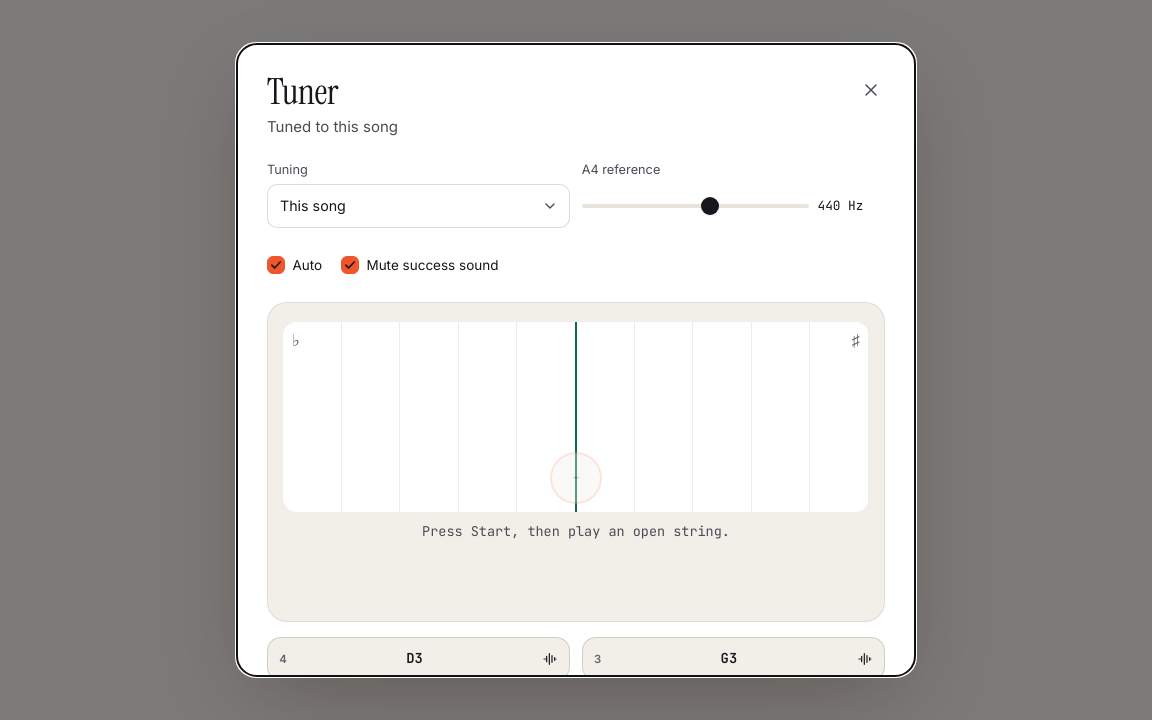
TunerSheet › locks to a tapped string when Auto is off
The image size is (1152, 720).
Click the checkbox with test id "tuner-auto" at (276,265), box [267, 256, 285, 274]
(page scrolled)
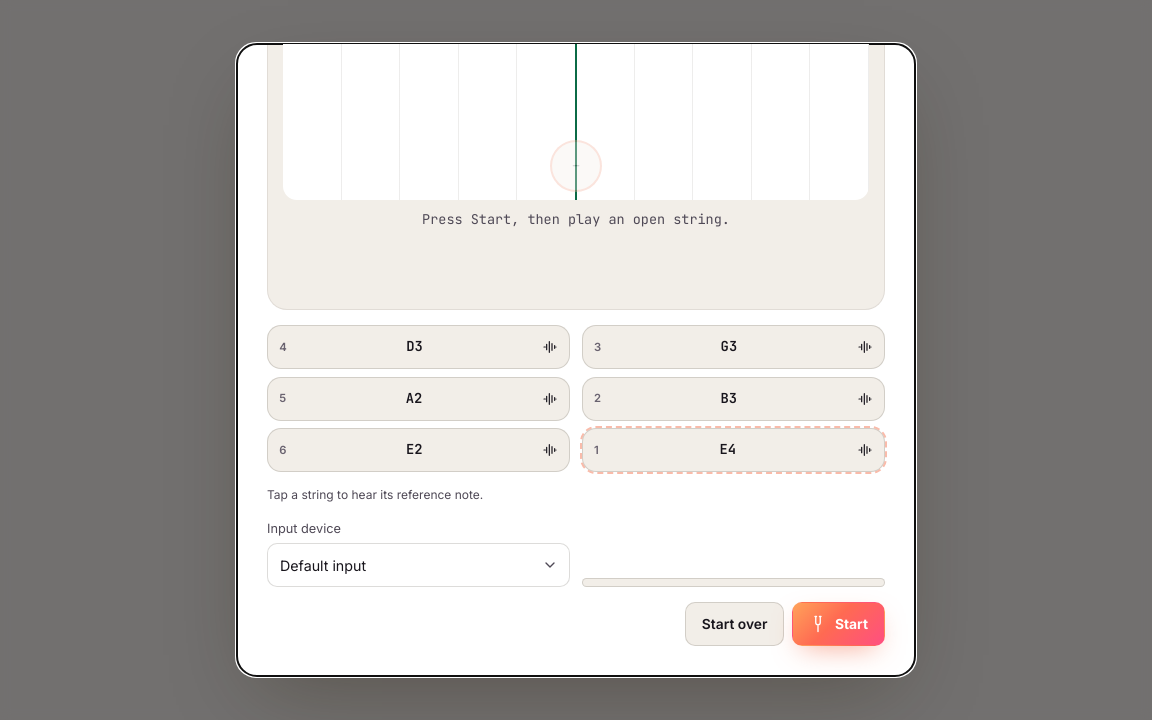
Click the button with test id "tuner-string-5" at (419,450), box [267, 428, 570, 472]
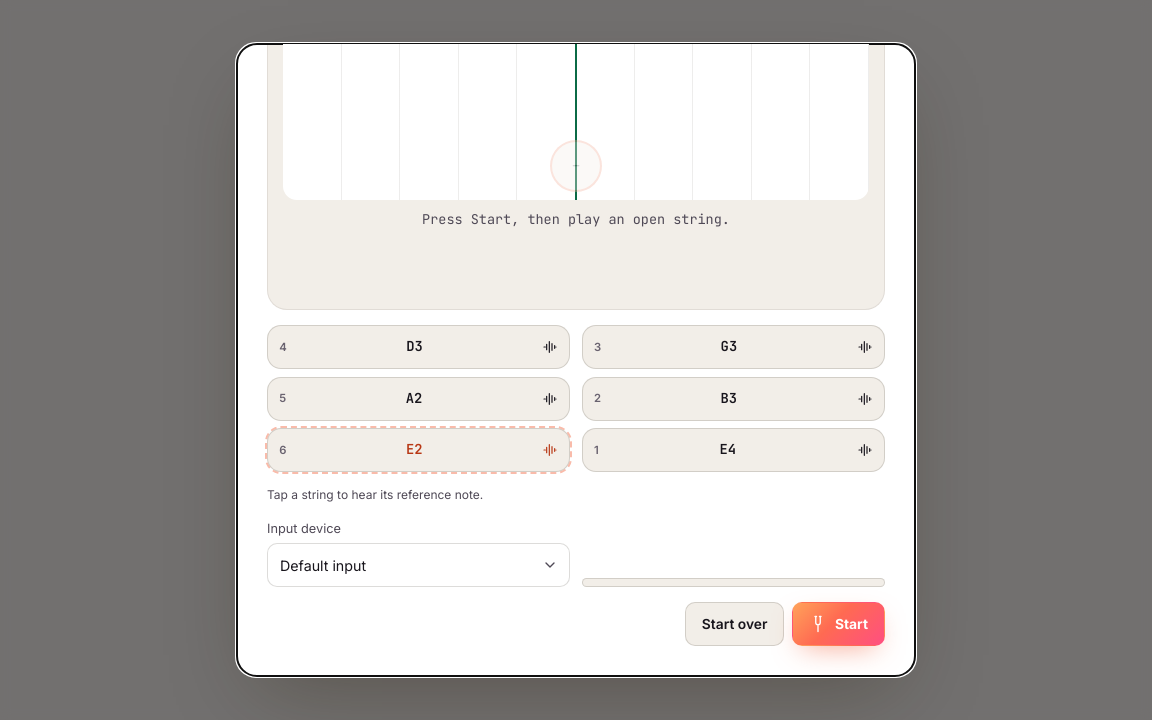
Click the button with test id "tuner-string-5" at (419,450), box [267, 428, 570, 472]
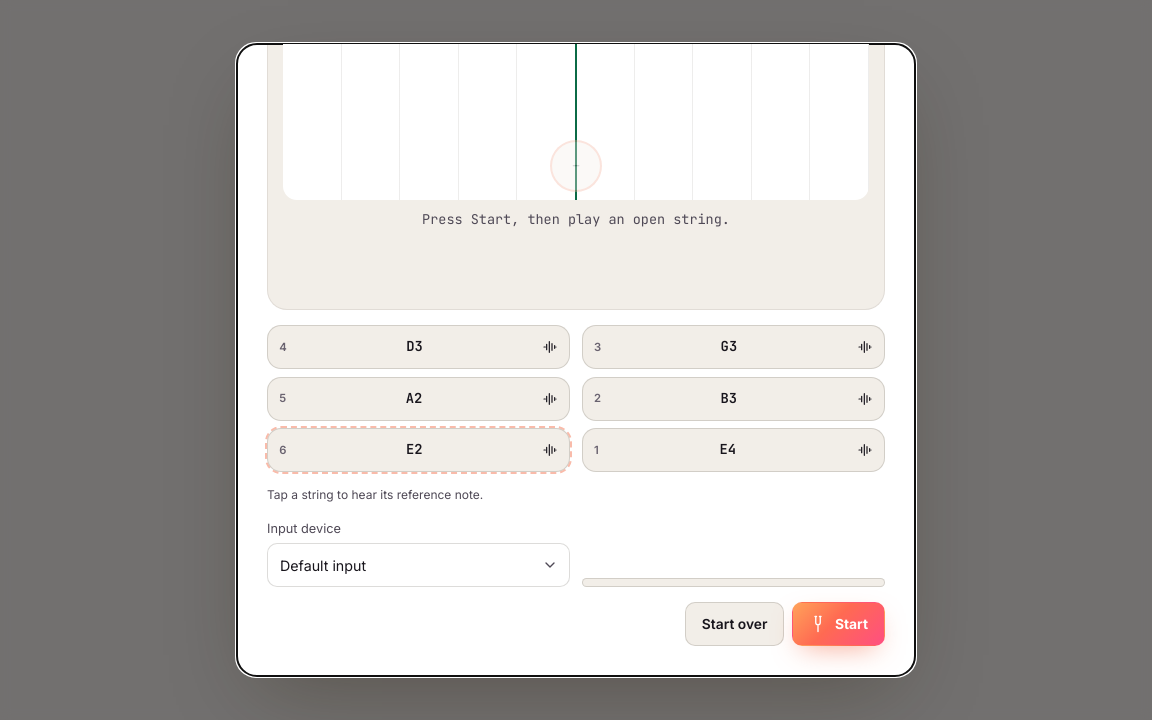
Click the button with test id "tuner-start" at (838,624), box [792, 602, 885, 646]
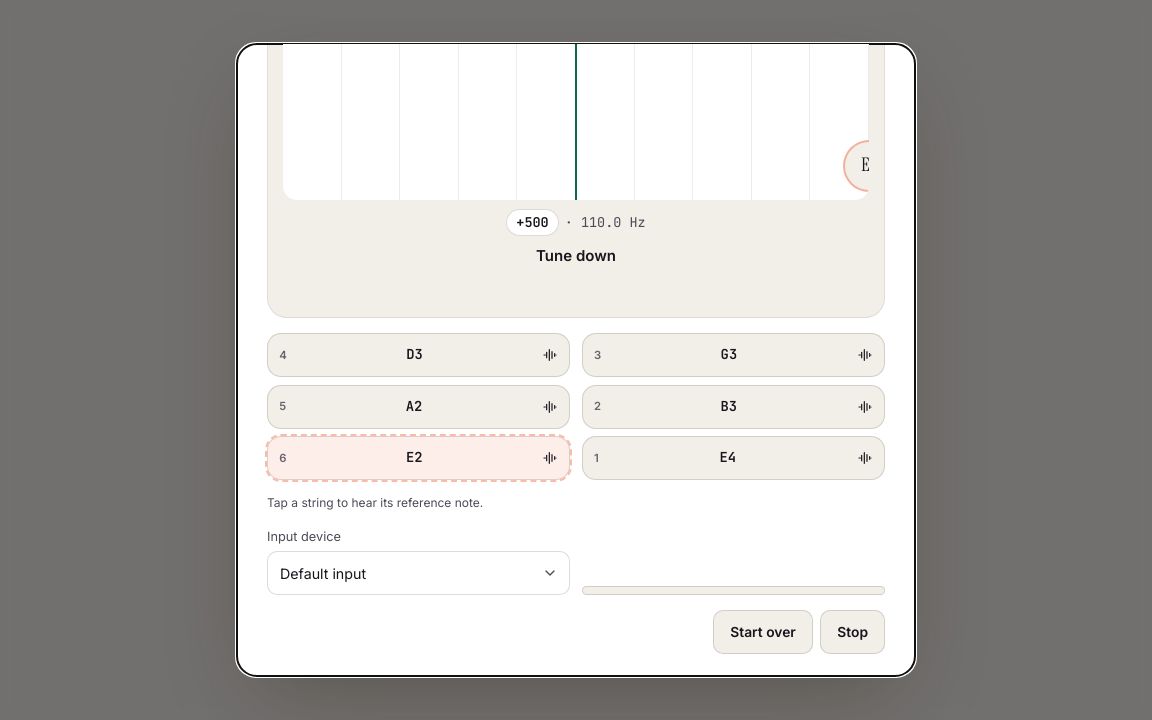
expect the element with test id "tuner-cents" shows "+500": met, box [516, 213, 549, 231]
